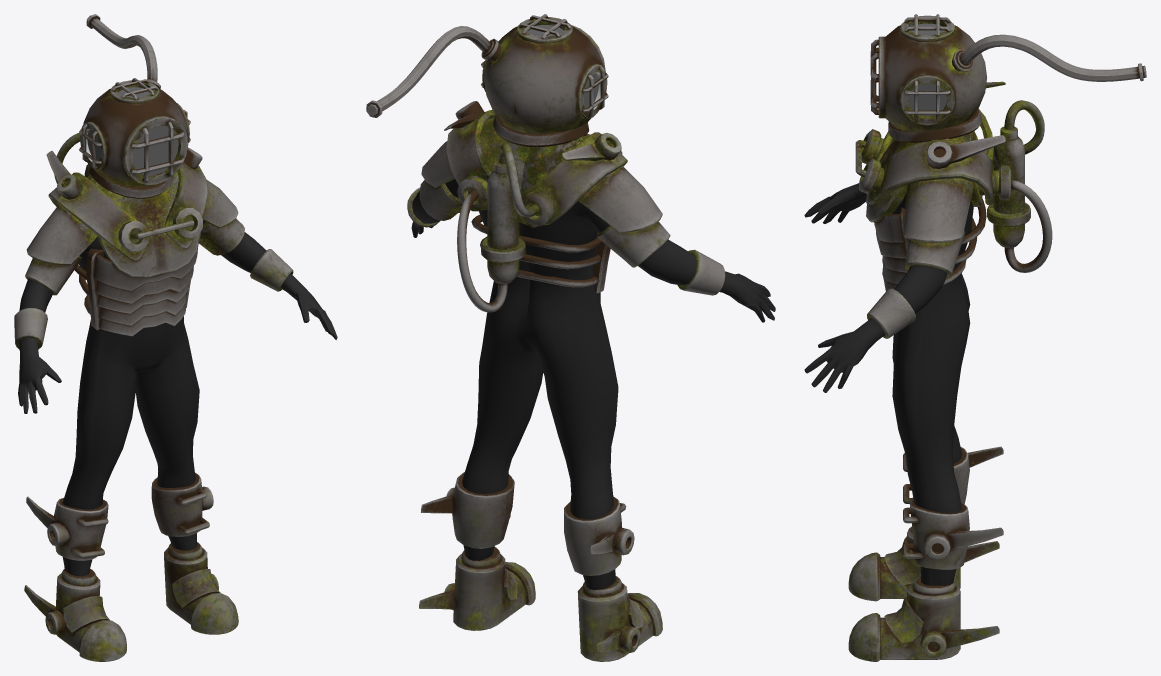
3 views of the same model, side by side, from view 1: azimuth 30°, elevation 25°; view 2: azimuth 150°, elevation 25°; view 3: azimuth 270°, elevation 25° (orthographic). The views are drawn at different scales.
Parts seen in each view (by area): view 1: Body, Helmet, Boots_L, Boots_R, Armor_R, Armor_Arm_R, Armor_Leg_L, Armor_Leg_R, Armor_L, Armor_Chest_01, Screw_Chest, Armor_Chest_02 (+16 smaller); view 2: Body, Helmet, Boots_L, Boots_R, AirTank, Armor_Leg_L, Armor_Arm_R, Armor_R, Armor_Leg_R, Armor_L, AirDuct, Armor_Biceps_R (+14 smaller); view 3: Body, Helmet, Boots_L, Armor_Arm_L, Armor_L, Boots_R, AirTank, AirDuct, Armor_Leg_L, Wings_Feet, Wings_Legs, Wings_Arms (+12 smaller).
Boxes of the visible parts, <box> form: Body: <box>18,220,337,576</box>; Helmet: <box>80,80,199,277</box>; Boots_L: <box>164,542,238,634</box>; Boots_R: <box>55,569,126,661</box>; Armor_R: <box>48,172,150,261</box>; Armor_Arm_R: <box>26,205,97,264</box>; Armor_Leg_L: <box>151,472,202,536</box>; Armor_Leg_R: <box>54,498,108,560</box>; Armor_L: <box>164,162,207,249</box>; Armor_Chest_01: <box>93,238,198,290</box>; Screw_Chest: <box>118,207,202,251</box>; Armor_Chest_02: <box>96,266,193,303</box>; Body: <box>411,179,775,589</box>; Helmet: <box>480,17,607,227</box>; Boots_L: <box>453,547,535,630</box>; Boots_R: <box>577,576,662,661</box>; AirTank: <box>481,160,525,284</box>; Armor_Leg_L: <box>452,472,514,548</box>; Armor_Arm_R: <box>579,166,662,232</box>; Armor_R: <box>522,132,627,225</box>; Armor_Leg_R: <box>564,496,621,575</box>; Armor_L: <box>446,109,495,210</box>; AirDuct: <box>366,26,490,117</box>; Armor_Biceps_R: <box>597,221,670,267</box>; Body: <box>804,183,973,585</box>; Helmet: <box>866,15,986,222</box>; Boots_L: <box>848,577,960,661</box>; Armor_Arm_L: <box>903,178,973,242</box>; Armor_L: <box>868,140,994,204</box>; Boots_R: <box>848,526,960,601</box>; AirTank: <box>987,126,1030,247</box>; AirDuct: <box>960,34,1146,81</box>; Armor_Leg_L: <box>909,500,969,569</box>; Wings_Feet: <box>920,541,999,657</box>; Wings_Legs: <box>924,446,1003,559</box>; Wings_Arms: <box>926,81,1005,168</box>.
Size of the model in its own units: 118 by 198 by 101.
Materials: 1 (1 with a texture image).
